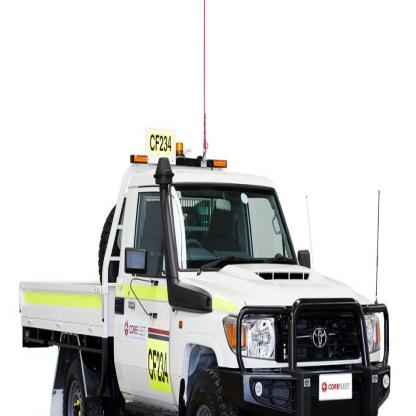light_vehicle: (13, 137, 390, 415)
